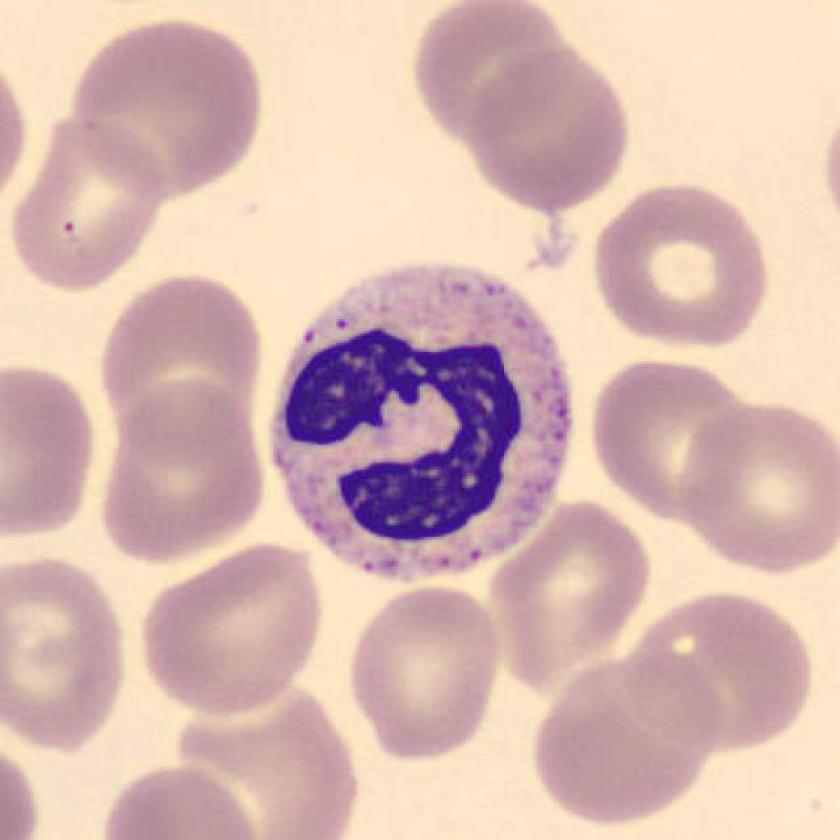neutrophil: (273, 261, 576, 580)
